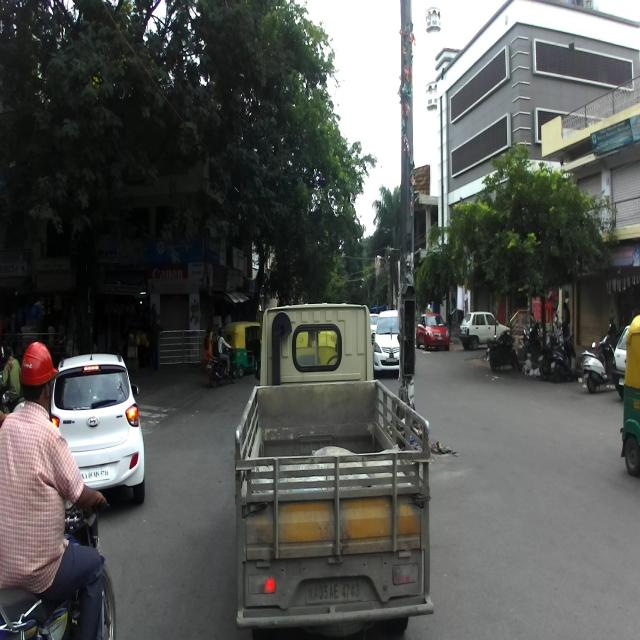Car_Hyundai: (47, 319, 145, 509)
Car_Maruti-Suzuki: (416, 312, 449, 354)
Car_Toyota: (373, 304, 409, 376)
motorcycle_Hero: (0, 499, 118, 638)
scooter: (580, 322, 616, 392)
truck: (233, 303, 434, 637)
